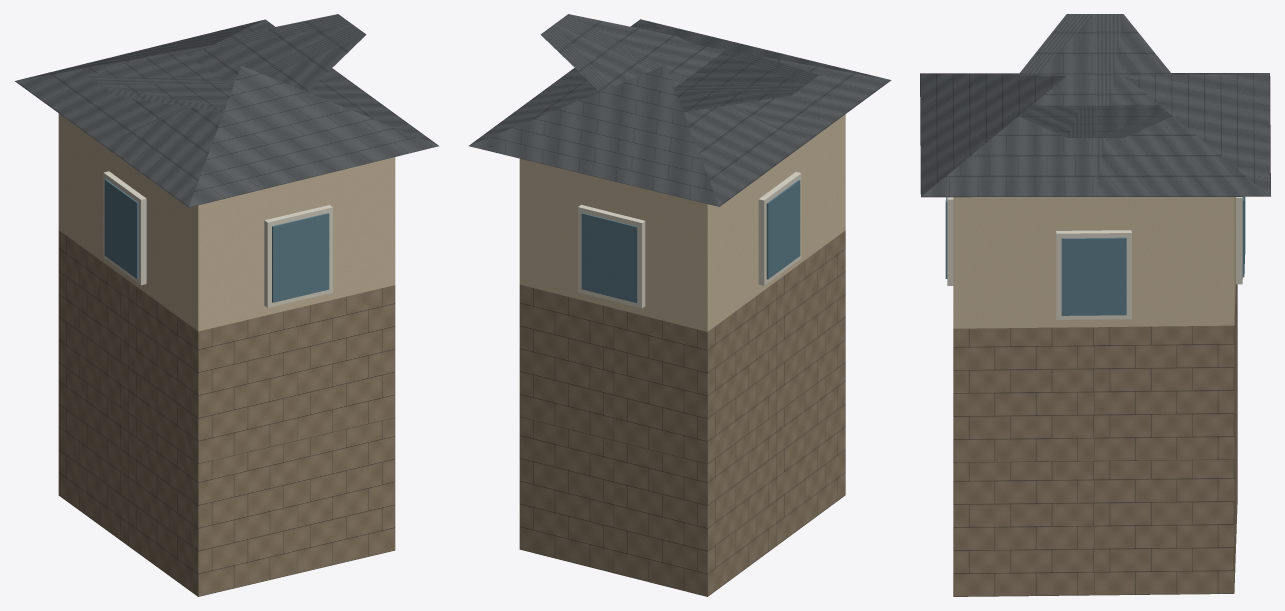
Rendered from core_0006.gltf.
3 views of the same model, side by side, from view 1: azimuth 30°, elevation 25°; view 2: azimuth 150°, elevation 25°; view 3: azimuth 270°, elevation 25° (orthographic).
Parts seen in each view (by area): view 1: core_0006; view 2: core_0006; view 3: core_0006.
Boxes of the visible parts, left/top/right/bottom form: core_0006: left=15, top=14, right=438, bottom=596; core_0006: left=469, top=14, right=891, bottom=596; core_0006: left=920, top=14, right=1270, bottom=596.
Bounding box in the file's own units: 4.51 × 8 × 5.38.
Materials: 5 (5 with a texture image).
